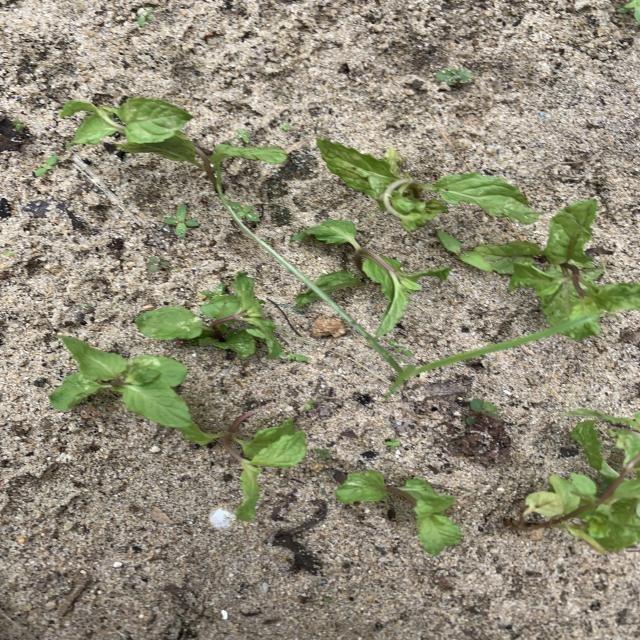crop: (476, 200, 637, 339), (61, 97, 287, 187), (319, 139, 536, 230), (508, 409, 639, 551), (295, 219, 448, 334), (50, 336, 196, 430), (181, 415, 304, 519), (136, 272, 280, 357), (336, 470, 460, 554)
weed: (219, 195, 560, 398), (437, 230, 494, 272), (165, 205, 197, 236), (467, 399, 498, 421), (229, 201, 260, 223), (436, 68, 471, 85), (618, 1, 639, 23), (35, 156, 57, 175), (148, 256, 170, 271), (278, 353, 309, 362), (136, 8, 154, 23), (11, 119, 26, 131), (384, 438, 399, 448), (316, 448, 331, 458), (304, 400, 314, 410)
